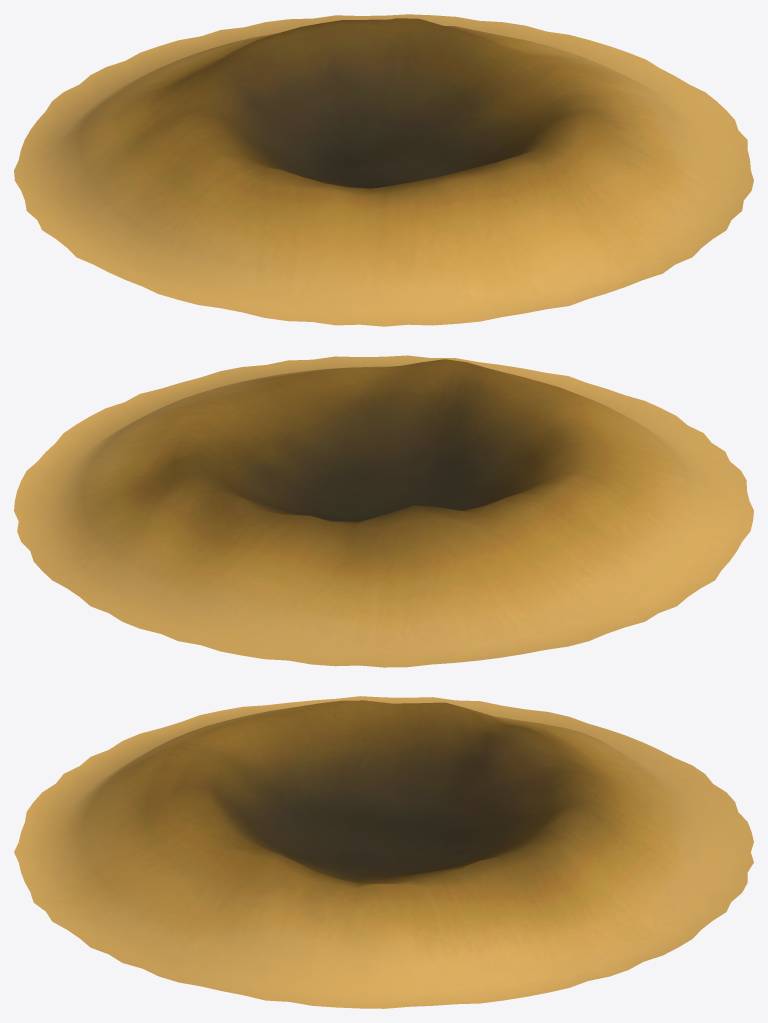
Rendered from Crater_1.fbx.
The picture shows the model from 3 angles, top to bottom: view 1: azimuth 30°, elevation 25°; view 2: azimuth 150°, elevation 25°; view 3: azimuth 270°, elevation 25°; orthographic projection.
Parts seen in each view (by area): view 1: Crater; view 2: Crater; view 3: Crater.
Boxes of the visible parts, left/top/right/bottom form: Crater: left=14, top=14, right=753, bottom=326; Crater: left=14, top=355, right=753, bottom=667; Crater: left=14, top=696, right=753, bottom=1008.
Bounding box in the file's own units: 59.75 × 6.43 × 59.75.
